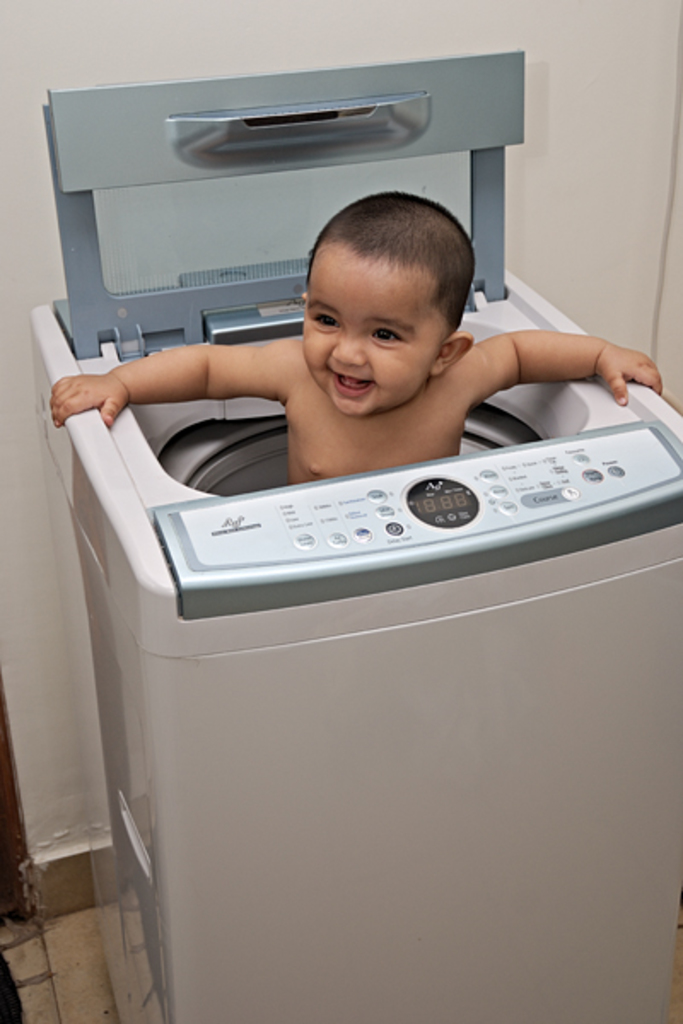Person: (49, 190, 662, 485)
